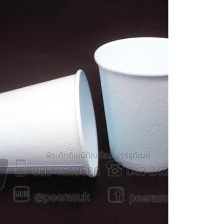paper_cup: (0, 62, 104, 188), (87, 31, 168, 178)
